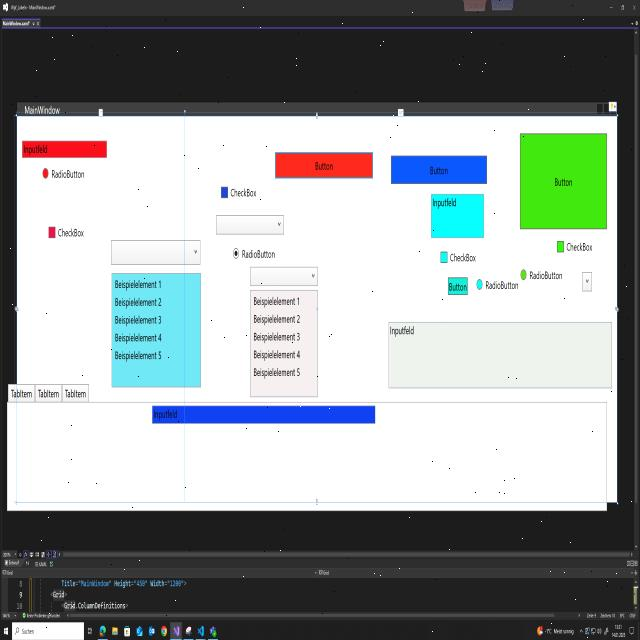button: (517, 128, 610, 232), (388, 150, 489, 188), (273, 148, 374, 182), (446, 272, 470, 296)
checkbox: (220, 185, 229, 201), (48, 224, 56, 240), (440, 250, 449, 264), (557, 240, 565, 254)
dropdownMenu: (110, 238, 202, 388), (249, 265, 319, 398), (215, 213, 285, 237), (581, 270, 593, 292)
input: (387, 319, 613, 391), (150, 403, 377, 427), (430, 192, 485, 242), (20, 138, 109, 160)
label: (242, 248, 276, 260), (485, 279, 519, 291), (51, 169, 86, 179), (529, 270, 563, 280), (566, 241, 594, 253), (58, 227, 85, 238), (230, 187, 257, 198), (449, 252, 476, 263)
menuItem: (114, 349, 162, 363), (252, 331, 302, 344), (115, 278, 162, 291), (115, 296, 162, 309), (253, 313, 301, 325), (253, 349, 301, 361), (253, 296, 300, 308), (253, 366, 300, 378), (115, 314, 162, 325), (115, 332, 162, 343)
radio: (232, 246, 240, 260), (520, 268, 527, 282), (42, 167, 49, 179), (476, 278, 483, 290)
tabControl: (62, 382, 90, 406), (7, 381, 36, 404), (34, 382, 62, 404)
